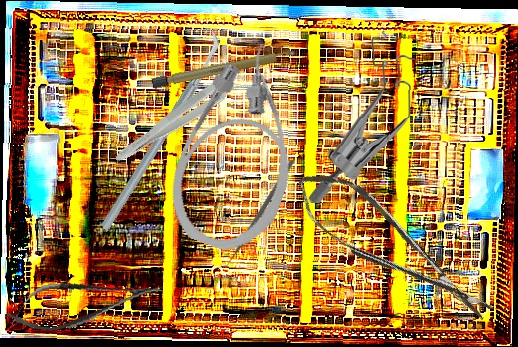Cannula: (155, 30, 330, 264)
Chopper: (45, 27, 275, 234), (216, 160, 294, 268)
Micro Scissor: (284, 155, 502, 342), (3, 265, 167, 340)
Scalpel Handle: (150, 47, 299, 90)
Speculum: (307, 28, 417, 207)
Tissue Forceps: (111, 65, 252, 172)
